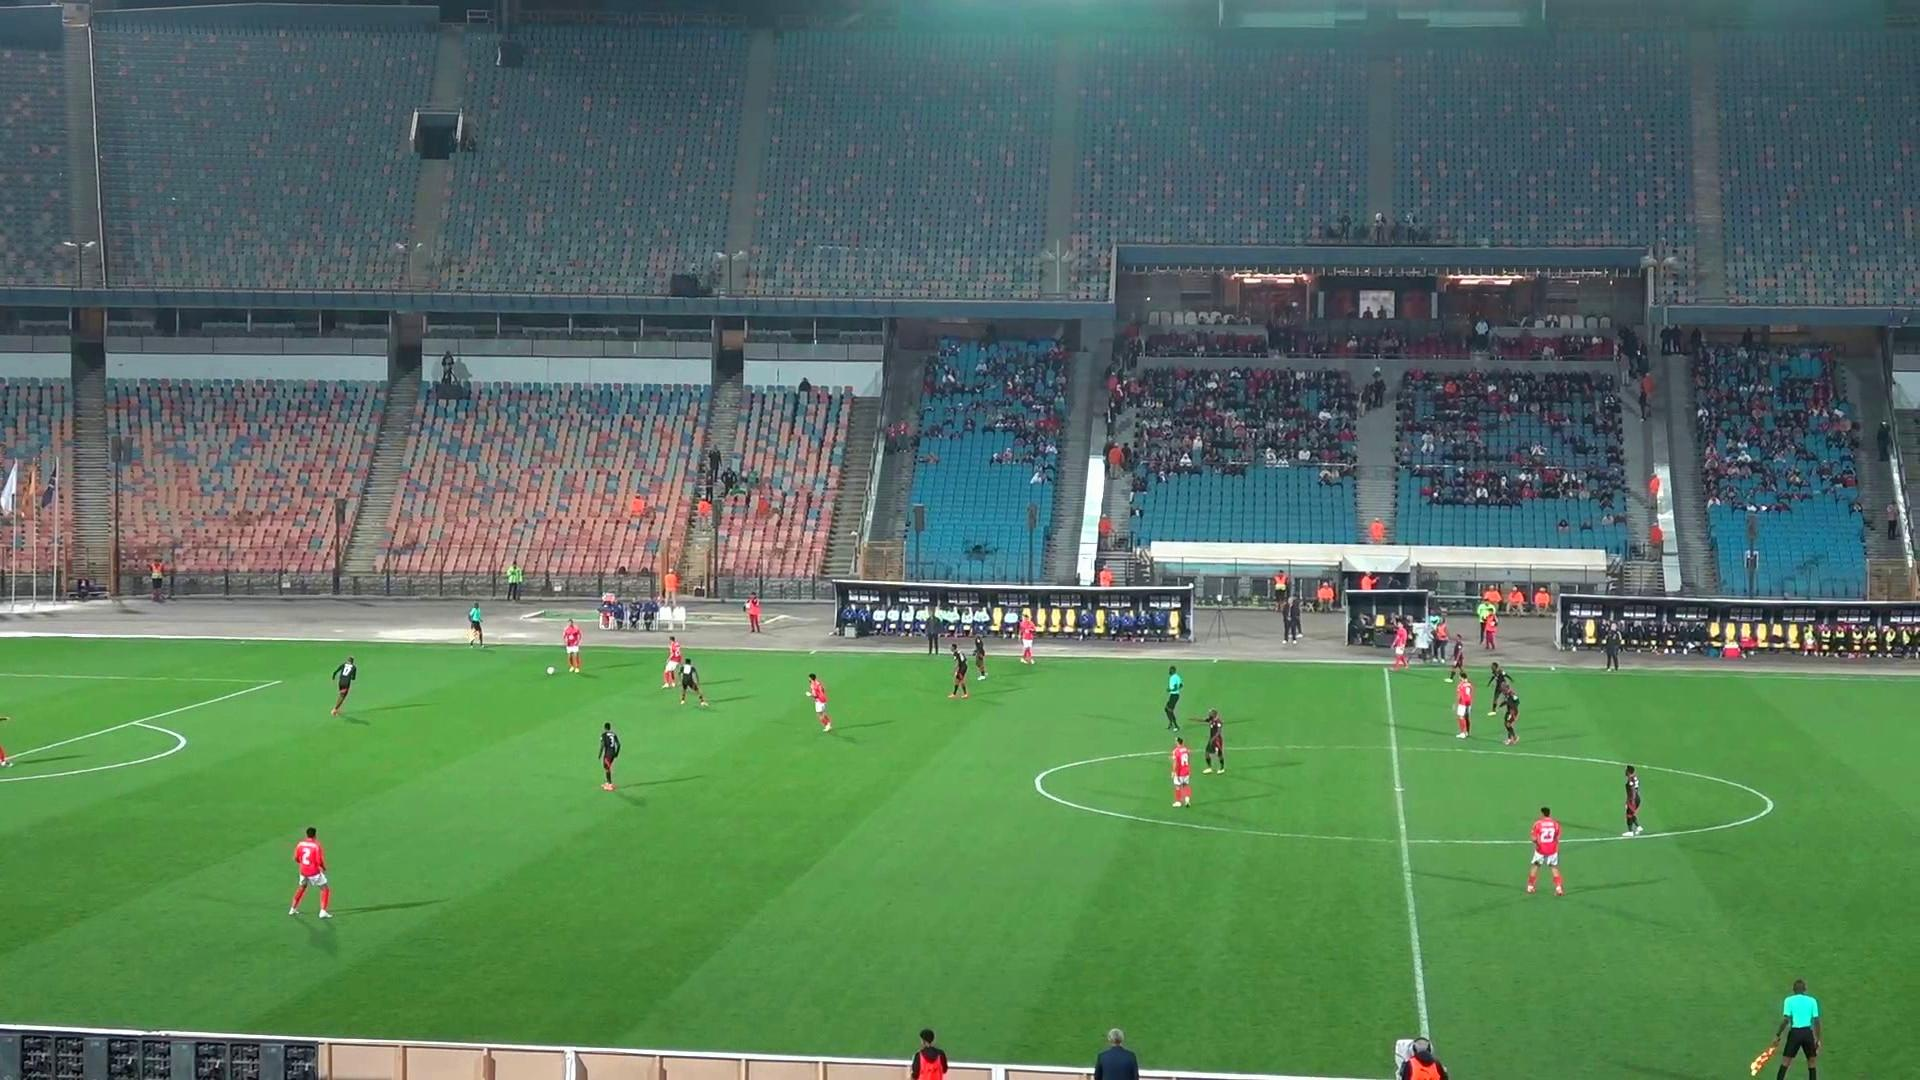Ball: (545, 663, 560, 676)
Refree: (1751, 978, 1822, 1079), (1163, 665, 1183, 732), (467, 603, 483, 647)
Team1: (287, 828, 330, 916), (1526, 807, 1563, 894), (1168, 737, 1192, 807), (804, 674, 833, 731), (1455, 669, 1474, 738), (662, 636, 684, 690), (1391, 616, 1411, 669), (562, 621, 582, 673), (1018, 615, 1035, 665)
Team2: (1493, 673, 1519, 745), (1487, 661, 1518, 713), (597, 723, 621, 790), (330, 657, 356, 716), (674, 657, 707, 704), (1203, 709, 1226, 771), (948, 642, 969, 698), (1447, 633, 1462, 676), (973, 636, 986, 680)
